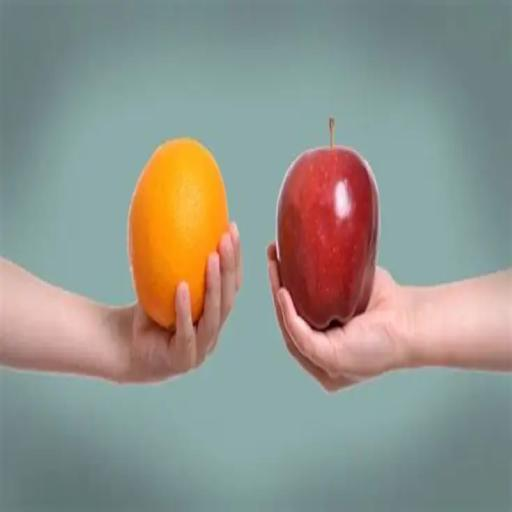apple: (276, 118, 379, 330)
orange: (129, 139, 228, 328)
